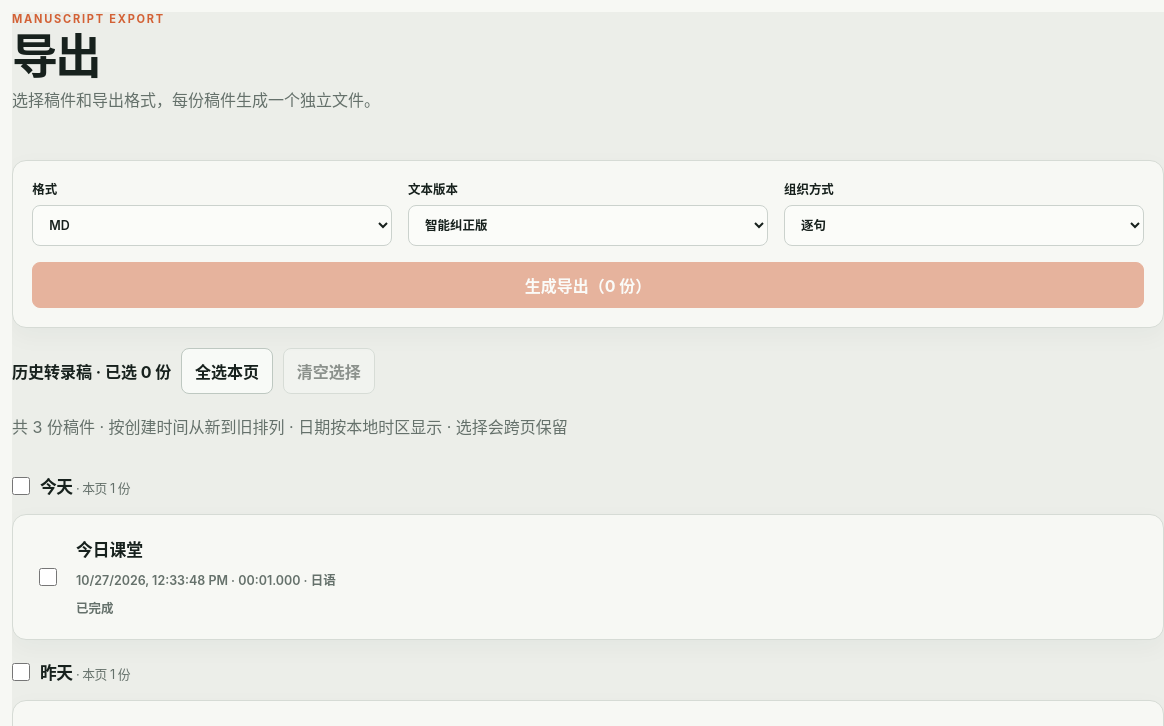
Test case: groups manuscripts by local date with older dates under an earlier-history section
The image size is (1164, 726).
Click the checkbox labelled "今日课堂 10/27/2026, 12:33:48 PM · 00:01.000 · 日语 已完成".
click(48, 577)  # box [39,568,57,586]
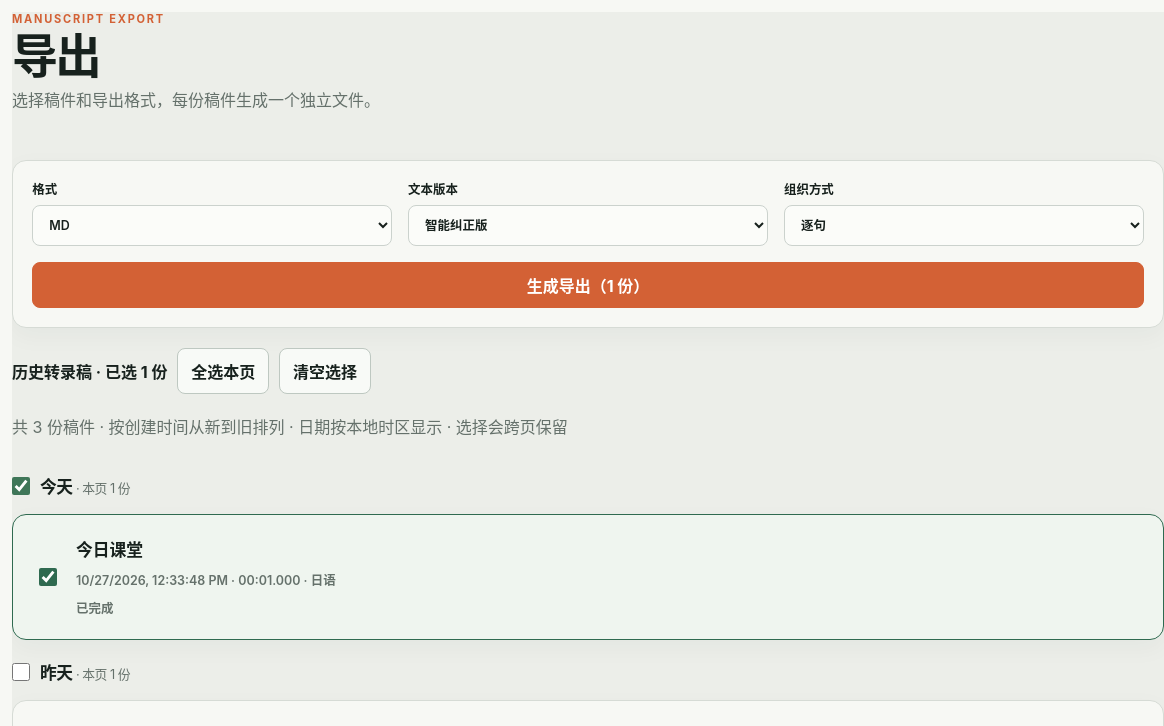
Check: the button "生成导出（1 份）" is enabled, box [32,262,1144,308]
